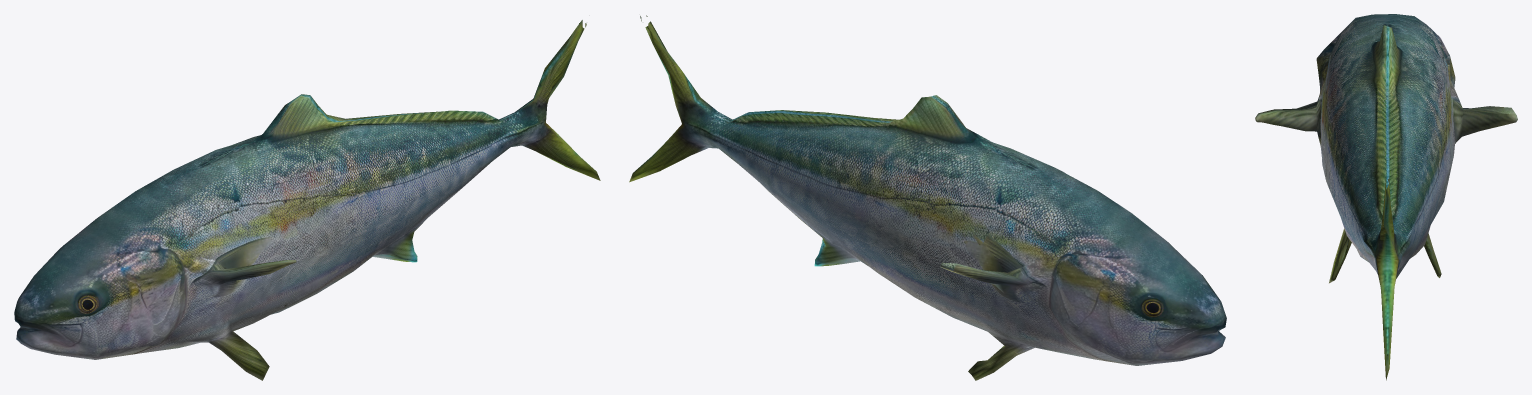
File: bangeo.glb
3 renders of one model, left to right at view 1: azimuth 30°, elevation 25°; view 2: azimuth 150°, elevation 25°; view 3: azimuth 270°, elevation 25°, orthographic. The views are drawn at different scales.
Visible parts, largest first — view 1: tripo_node_f85e07e4; view 2: tripo_node_f85e07e4; view 3: tripo_node_f85e07e4.
Boxes of the visible parts, x1,y1,x2,y2 form: tripo_node_f85e07e4: [14, 20, 600, 380]; tripo_node_f85e07e4: [629, 15, 1226, 380]; tripo_node_f85e07e4: [1255, 14, 1517, 380].
Size of the model in its own units: 96.54 by 41.44 by 32.33.
1 material, 1 textured.
